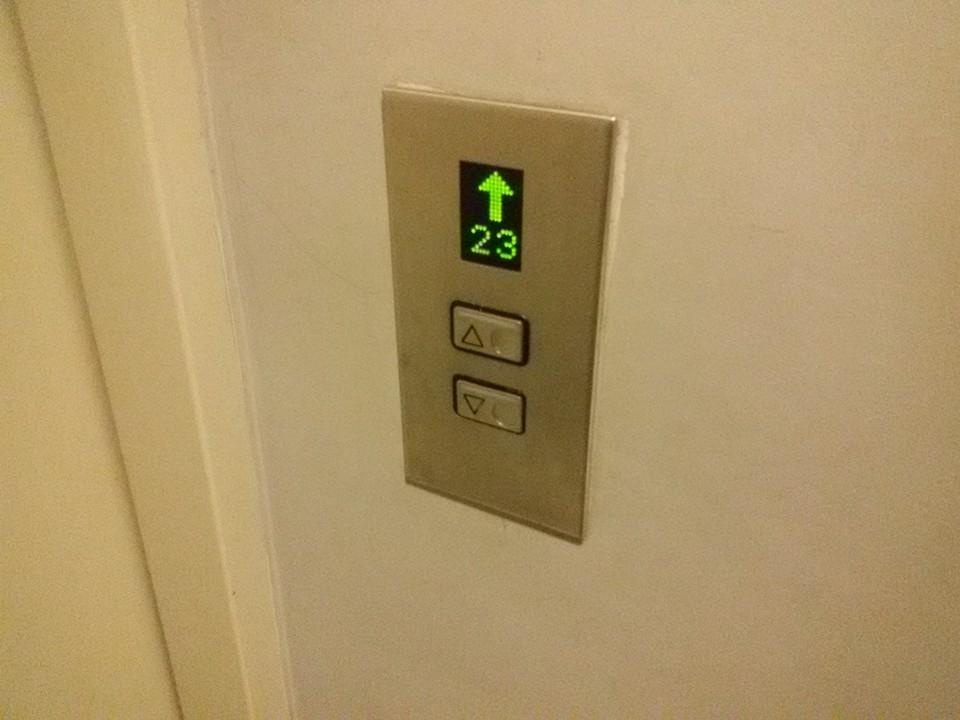down: (448, 372, 528, 439)
led: (455, 156, 526, 275)
up: (446, 296, 533, 368)
